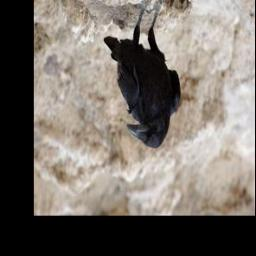Crow: (103, 0, 180, 150)
